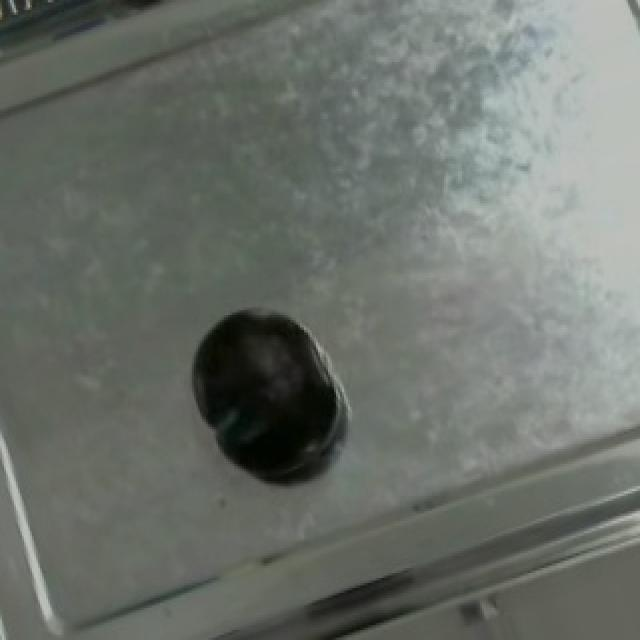Fruit: (172, 292, 356, 503)
